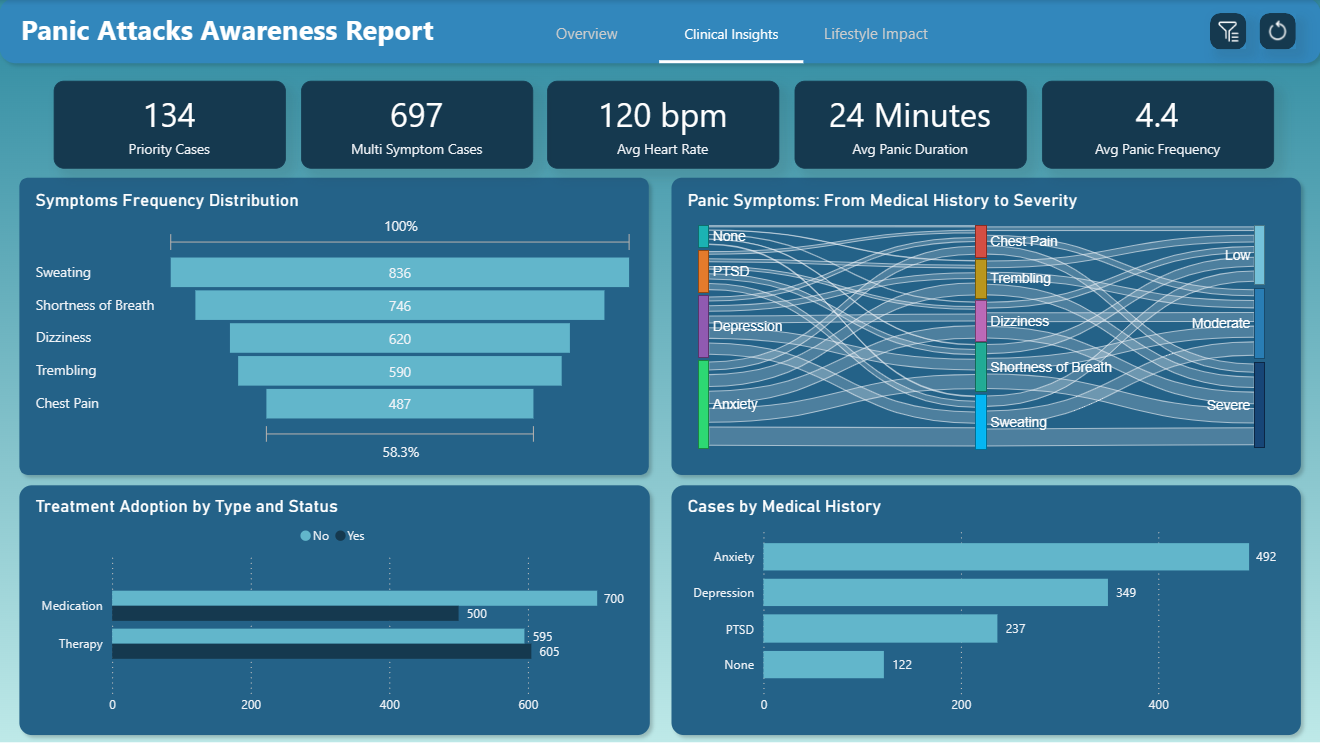

The dashboard page shown, as its layout file describes it:
{"tool":"powerbi","page":{"name":"Clinical Insights","canvas":[1280,720],"ordinal":1},"visuals":[{"type":"card","fields":{"Values":["_Measures.Measure"]},"box":[53,78,225,85],"z":0},{"type":"clusteredBarChart","title":"Treatment Adoption by Type and Status","fields":{"Category":["Treatment Status Table.TreatmentType"],"Series":["Treatment Status Table.Status"],"Y":["CountNonNull(Treatment Status Table.Status)"]},"box":[30.7,481.1,590.1,220.2],"z":1000},{"type":"card","fields":{"Values":["_Measures.Avg Heart Rate"]},"box":[532,78.1,225,85],"z":2000},{"type":"card","fields":{"Values":["_Measures.Avg Panic Duration Card"]},"box":[771.5,78.1,225,85],"z":3000},{"type":"card","fields":{"Values":["_Measures.Multi Symptom Cases"]},"box":[292.5,78.1,225,85],"z":4000},{"type":"card","fields":{"Values":["_Measures.Average Panic Frequency"]},"box":[1011,78.1,225,85],"z":5000},{"type":"clusteredBarChart","title":"Cases by Medical History","fields":{"Category":["PANIC_ATTACK_DATA.MEDICAL_HISTORY"],"Y":["_Measures.Total Cases"]},"box":[663.1,481.1,590.1,220.2],"z":6000},{"type":"funnel","title":"Symptoms Frequency Distribution","fields":{"Category":["Symptoms Table.Symptom"],"Y":["_Measures.Symptoms Frequency"]},"box":[30.7,184.3,590.1,267.5],"z":7000},{"type":"sankey02300D1BE6F5427989F3DE31CCA9E0F32020","title":"Panic Symptoms: From Medical History to Severity","fields":{"Destination":["Sankey_Data.Destination"],"Weight":["Sum(Sankey_Data.Weight)"],"Source":["Sankey_Data.Source"]},"box":[663.1,184.3,590.1,267.5],"z":8000},{"type":"textbox","box":[16.4,5,474.6,64.4],"z":9000},{"type":"actionButton","box":[1173.8,12.6,35.3,35.3],"z":10000},{"type":"actionButton","box":[1221.8,12.6,35.3,35.3],"z":11000},{"type":"pageNavigator","box":[500,11.4,140.1,50.5],"z":12000},{"type":"pageNavigator","box":[640,11.4,140.1,50.5],"z":13000},{"type":"pageNavigator","box":[780,11.4,140.1,50.5],"z":42002}]}

Visuals, with their boxes in screenshot pixels (x1, y1, x2, y2), scaled from the page's 1280x720 canvas onto the 1320x743 screenshot:
card - _Measures.Measure: Rect(55, 80, 287, 168)
"Treatment Adoption by Type and Status" clusteredBarChart: Rect(32, 496, 640, 724)
card - _Measures.Avg Heart Rate: Rect(549, 81, 781, 168)
card - _Measures.Avg Panic Duration Card: Rect(796, 81, 1028, 168)
card - _Measures.Multi Symptom Cases: Rect(302, 81, 534, 168)
card - _Measures.Average Panic Frequency: Rect(1043, 81, 1275, 168)
"Cases by Medical History" clusteredBarChart: Rect(684, 496, 1292, 724)
"Symptoms Frequency Distribution" funnel: Rect(32, 190, 640, 466)
"Panic Symptoms: From Medical History to Severity" sankey02300D1BE6F5427989F3DE31CCA9E0F32020: Rect(684, 190, 1292, 466)
textbox: Rect(17, 5, 506, 72)
actionButton: Rect(1210, 13, 1247, 49)
actionButton: Rect(1260, 13, 1296, 49)
pageNavigator: Rect(516, 12, 660, 64)
pageNavigator: Rect(660, 12, 804, 64)
pageNavigator: Rect(804, 12, 949, 64)
